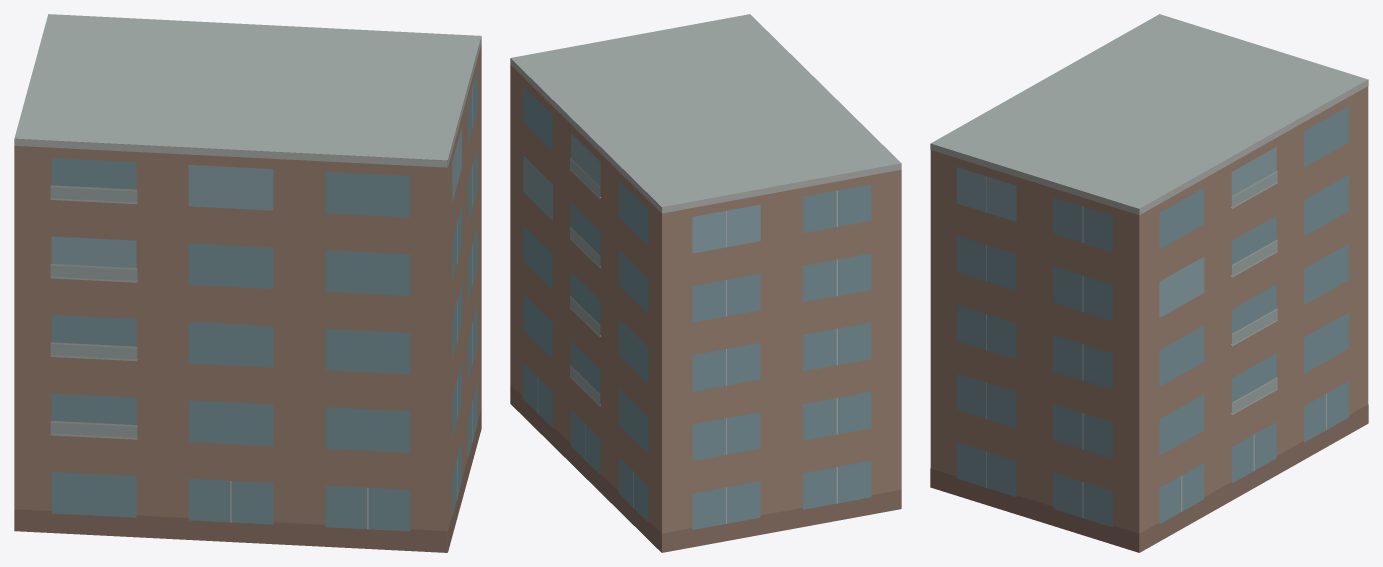
The model's file is survey-upis-32610251.glb.
3 renders of one model, left to right at view 1: azimuth 30°, elevation 25°; view 2: azimuth 150°, elevation 25°; view 3: azimuth 270°, elevation 25°, orthographic. The views are drawn at different scales.
Visible parts, largest first — view 1: survey-upis-32610251.tmp; view 2: survey-upis-32610251.tmp; view 3: survey-upis-32610251.tmp.
Part boxes in pixels (left/top/right/bottom): survey-upis-32610251.tmp: left=14, top=14, right=481, bottom=552; survey-upis-32610251.tmp: left=510, top=14, right=901, bottom=552; survey-upis-32610251.tmp: left=930, top=14, right=1368, bottom=552.
Size of the model in its own units: 16.17 by 13.3 by 15.36.
